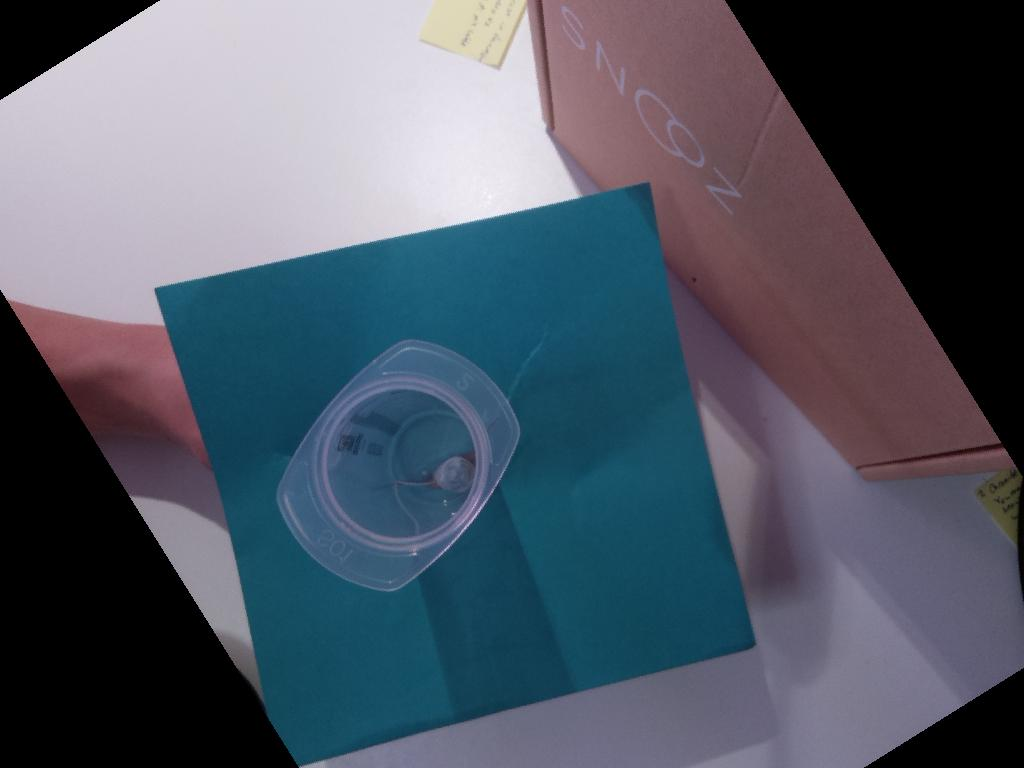clean: (275, 335, 521, 594)
